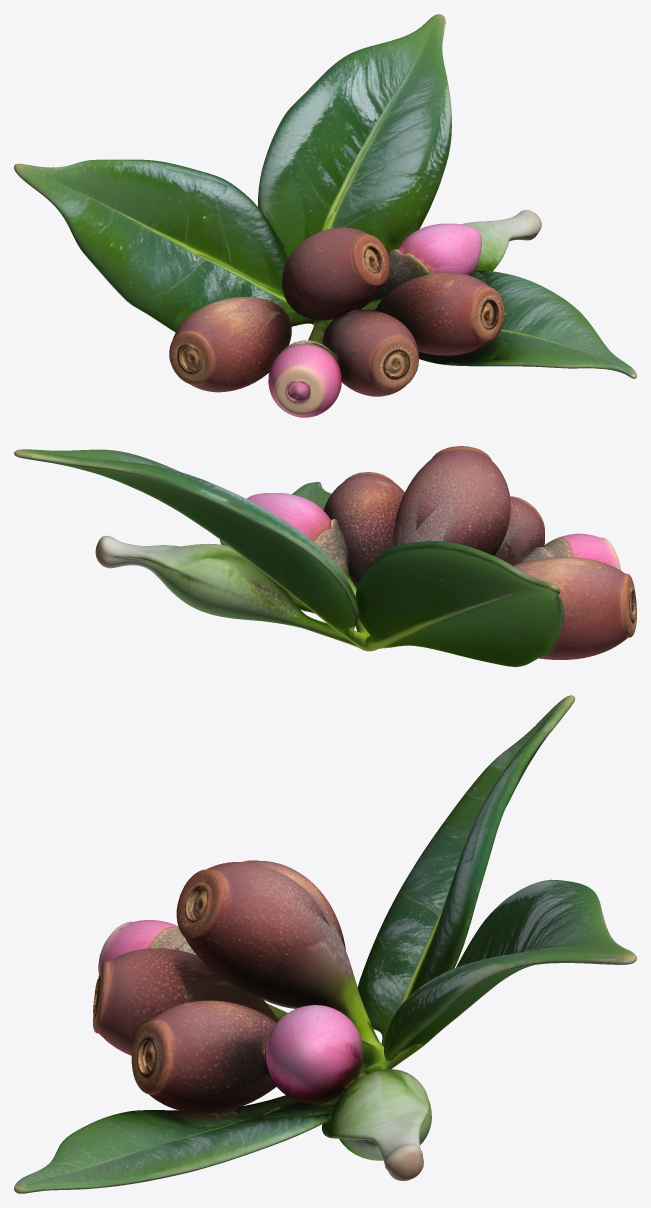
The model's file is mudingxiang.glb.
3 views of the same model, one above another, from view 1: azimuth 30°, elevation 25°; view 2: azimuth 150°, elevation 25°; view 3: azimuth 270°, elevation 25° (orthographic). The views are drawn at different scales.
Parts seen in each view (by area): view 1: node_0; view 2: node_0; view 3: node_0.
Boxes of the visible parts, x1,y1,x2,y2 form: node_0: (14, 14, 636, 417); node_0: (14, 446, 636, 666); node_0: (14, 695, 636, 1193).
Bounding box in the file's own units: 0.901 × 0.3674 × 0.7752.
1 material, 1 textured.
